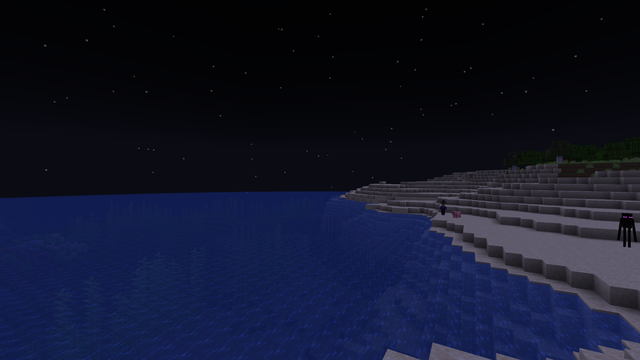cochons: (453, 211, 460, 218)
endermens: (619, 211, 633, 247)
sorcieres: (440, 202, 444, 214)
